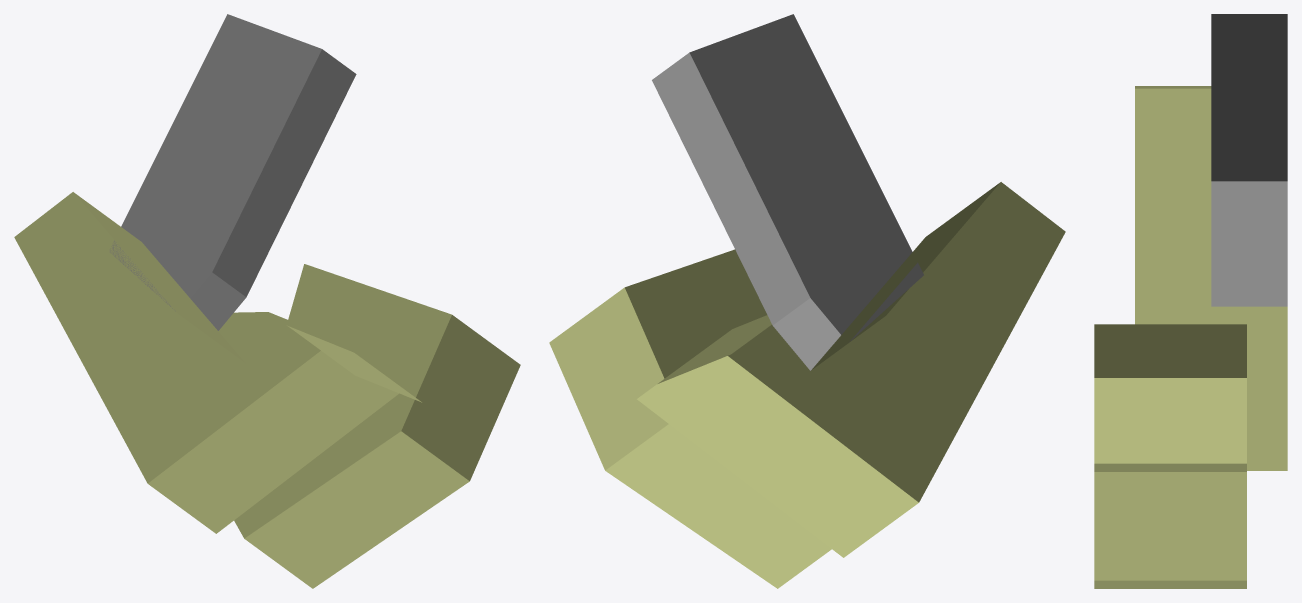
The picture shows the model from 3 angles, left to right: view 1: azimuth 30°, elevation 25°; view 2: azimuth 150°, elevation 25°; view 3: azimuth 270°, elevation 25°; orthographic projection. The views are drawn at different scales.
Visible parts, largest first — view 1: 0_1_0_0_0_1_2_2_2_0; view 2: 0_1_0_0_0_1_2_2_2_0; view 3: 0_1_0_0_0_1_2_2_2_0.
Boxes of the visible parts, x1,y1,x2,y2 form: 0_1_0_0_0_1_2_2_2_0: [14, 14, 520, 588]; 0_1_0_0_0_1_2_2_2_0: [549, 14, 1065, 588]; 0_1_0_0_0_1_2_2_2_0: [1094, 14, 1287, 588].
Size of the model in its own units: 21.17 by 24.63 by 7.6.
